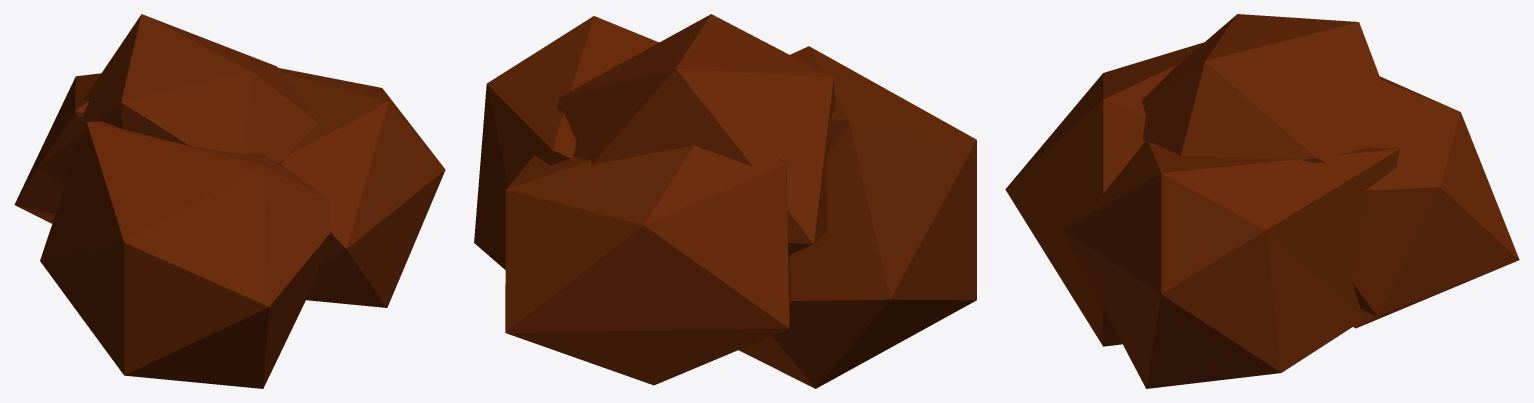
Rendered from Busher.fbx.
3 renders of one model, left to right at view 1: azimuth 30°, elevation 25°; view 2: azimuth 150°, elevation 25°; view 3: azimuth 270°, elevation 25°, orthographic. The views are drawn at different scales.
Parts seen in each view (by area): view 1: Busher; view 2: Busher; view 3: Busher.
Boxes of the visible parts, left/top/right/bottom form: Busher: left=14, top=14, right=445, bottom=388; Busher: left=474, top=14, right=976, bottom=388; Busher: left=1005, top=14, right=1519, bottom=388.
Bounding box in the file's own units: 779 × 613 × 889.
